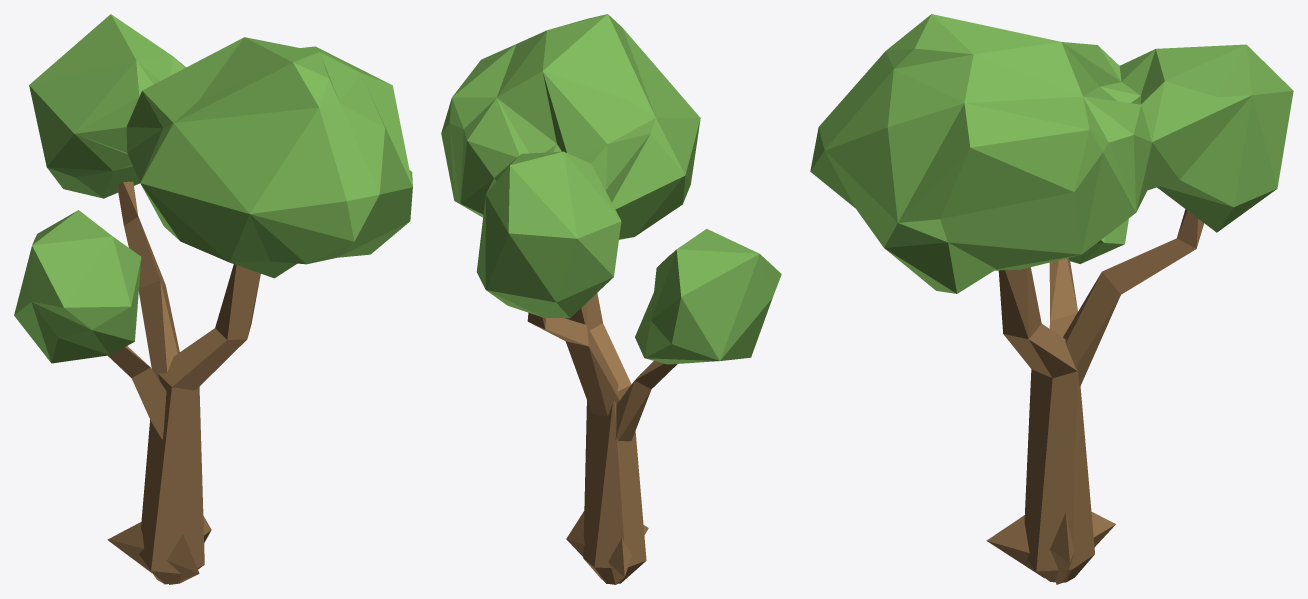
Rendered from oak_medium1.fbx.
The picture shows the model from 3 angles, left to right: view 1: azimuth 30°, elevation 25°; view 2: azimuth 150°, elevation 25°; view 3: azimuth 270°, elevation 25°; orthographic projection. The views are drawn at different scales.
Parts seen in each view (by area): view 1: Circle.004; view 2: Circle.004; view 3: Circle.004.
Part boxes in pixels (left/top/right/bottom): Circle.004: left=14, top=14, right=412, bottom=584; Circle.004: left=441, top=14, right=781, bottom=584; Circle.004: left=810, top=14, right=1293, bottom=584.
Bounding box in the file's own units: 968 × 1461 × 1067.
